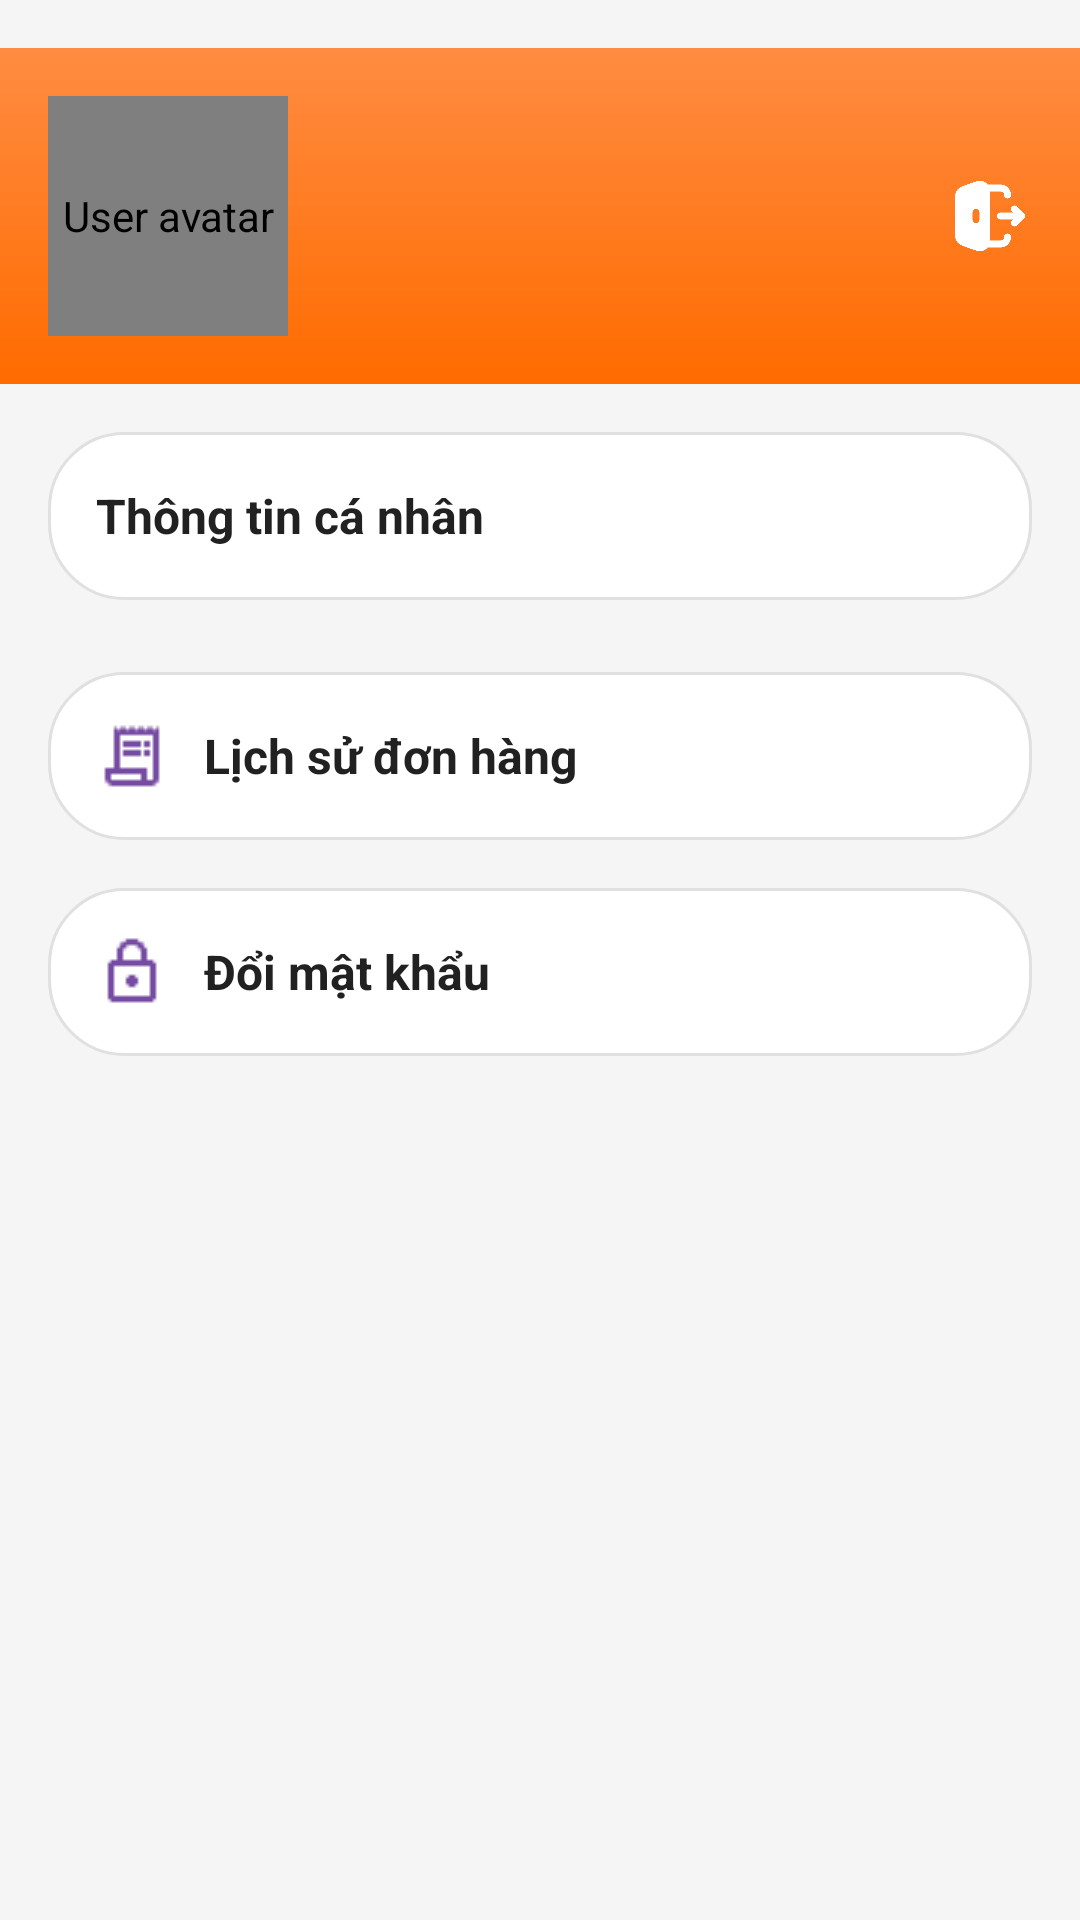

Icons on this 1080 × 1920 Android screen, each with its box as bbox=(x1, y1, x2, y2):
lichsudonhang: bbox=(104, 725, 160, 787)
password: bbox=(107, 938, 157, 1003)
